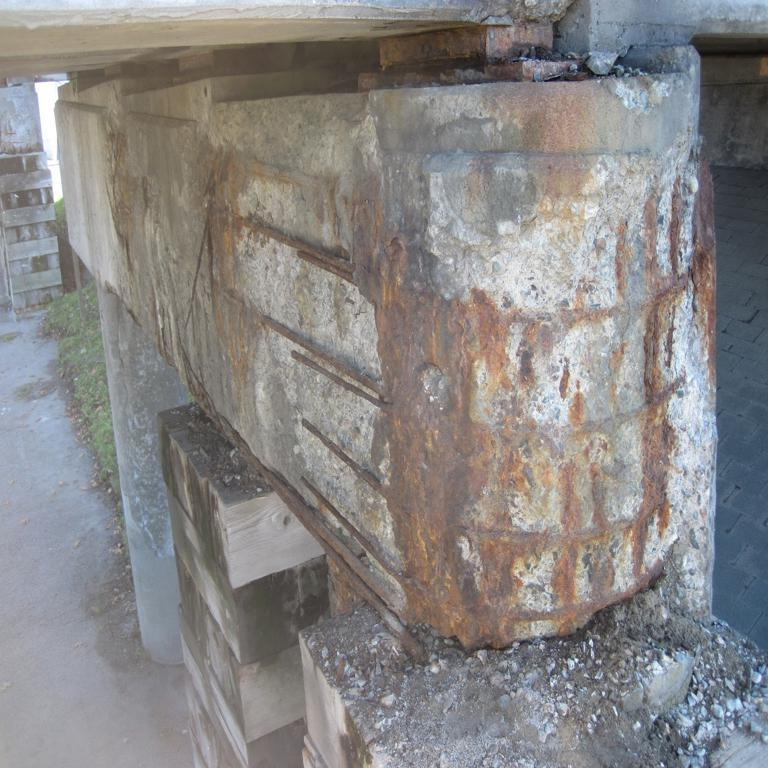exposed_rebar: (262, 315, 382, 394), (302, 477, 388, 573), (304, 418, 382, 493), (292, 351, 387, 406), (242, 219, 350, 260), (298, 250, 352, 281)
spalling: (180, 154, 716, 646)
